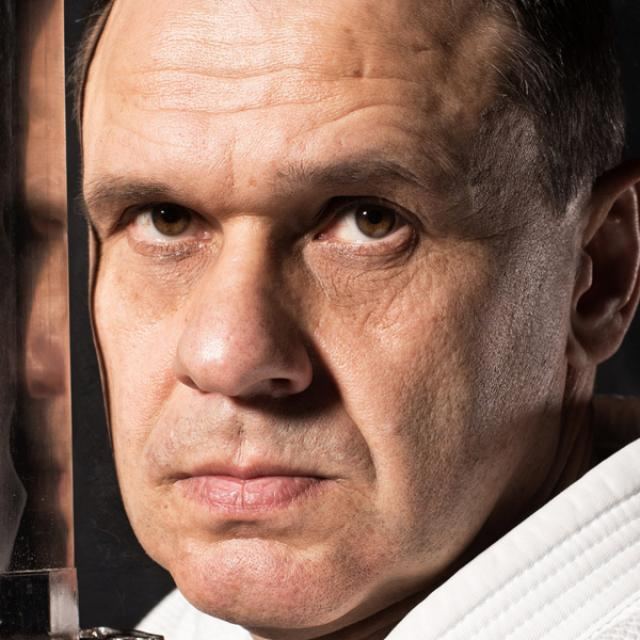face: (65, 2, 640, 619)
